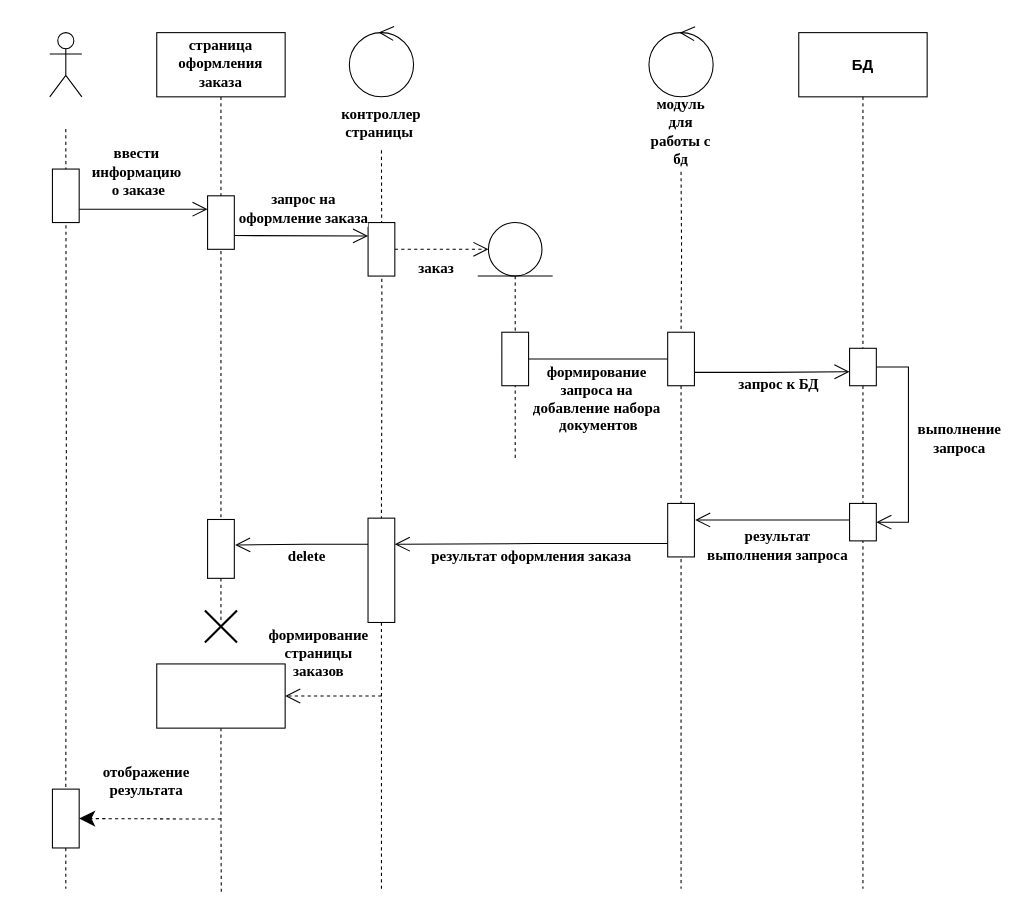
The diagram is 1019 pixels wide and 914 high, and some of its shapes have lost their labels. The box of each missing label's shape, as (x1, y1, x2, y2) in pixels:
Пользователь: (49, 32, 82, 97)
страница заказов: (156, 663, 285, 728)
